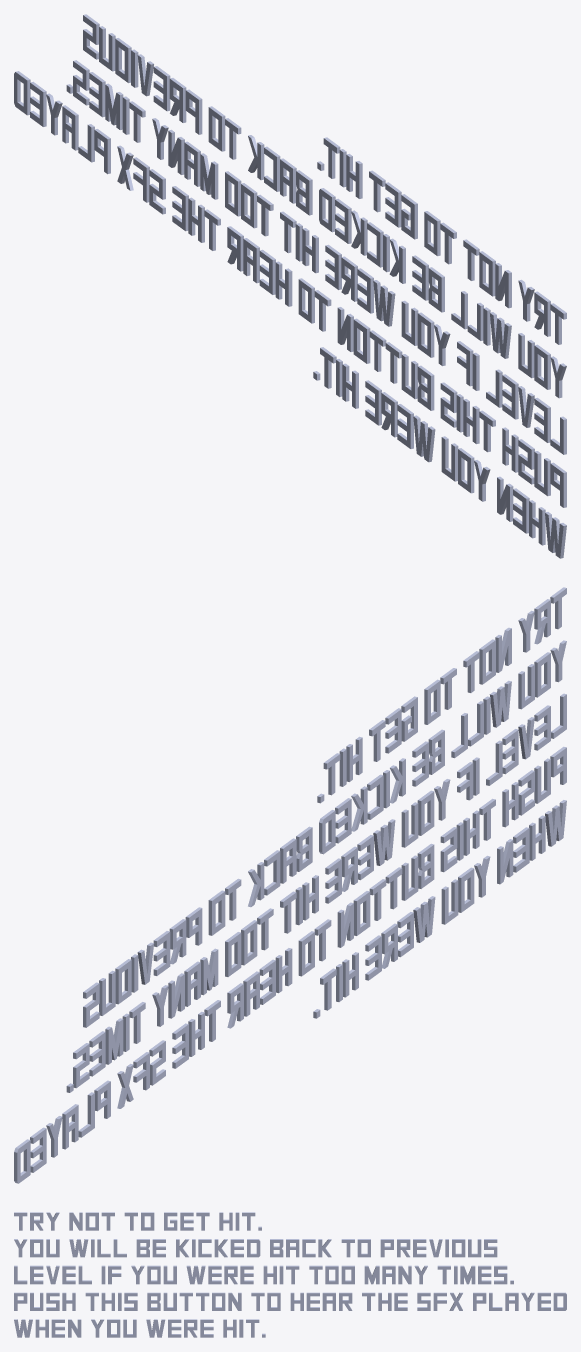
The model's file is Dont_get_hit.FBX.
The picture shows the model from 3 angles, top to bottom: view 1: azimuth 30°, elevation 25°; view 2: azimuth 150°, elevation 25°; view 3: azimuth 270°, elevation 25°; orthographic projection. The views are drawn at different scales.
Parts seen in each view (by area): view 1: Boss-Extrude1[55], Boss-Extrude1[114], Boss-Extrude1[19], Boss-Extrude1[107], Boss-Extrude1[65]; view 2: no part large enough to name; view 3: Boss-Extrude1[55], Boss-Extrude1[114], Boss-Extrude1[19], Boss-Extrude1[107], Boss-Extrude1[65], Boss-Extrude1[71], Boss-Extrude1[23], Boss-Extrude1[31], Boss-Extrude1[64], Boss-Extrude1[83], Boss-Extrude1[48], Boss-Extrude1[58] (+59 smaller).
Boxes of the visible parts, <box> form: Boss-Extrude1[55]: <box>373,280,395,326</box>; Boss-Extrude1[114]: <box>413,415,435,462</box>; Boss-Extrude1[19]: <box>490,312,511,358</box>; Boss-Extrude1[107]: <box>545,512,566,558</box>; Boss-Extrude1[65]: <box>200,153,218,199</box>; Boss-Extrude1[55]: <box>186,1265,205,1284</box>; Boss-Extrude1[114]: <box>146,1319,165,1337</box>; Boss-Extrude1[19]: <box>69,1239,88,1257</box>; Boss-Extrude1[107]: <box>14,1319,32,1337</box>; Boss-Extrude1[65]: <box>364,1265,379,1284</box>; Boss-Extrude1[71]: <box>460,1265,475,1284</box>; Boss-Extrude1[23]: <box>136,1239,149,1257</box>; Boss-Extrude1[31]: <box>270,1239,283,1257</box>; Boss-Extrude1[64]: <box>341,1265,354,1284</box>; Boss-Extrude1[83]: <box>147,1292,160,1310</box>; Boss-Extrude1[48]: <box>62,1265,75,1284</box>; Boss-Extrude1[58]: <box>240,1265,253,1284</box>.
Size of the model in its own units: 0.1 by 7.07 by 28.47.
